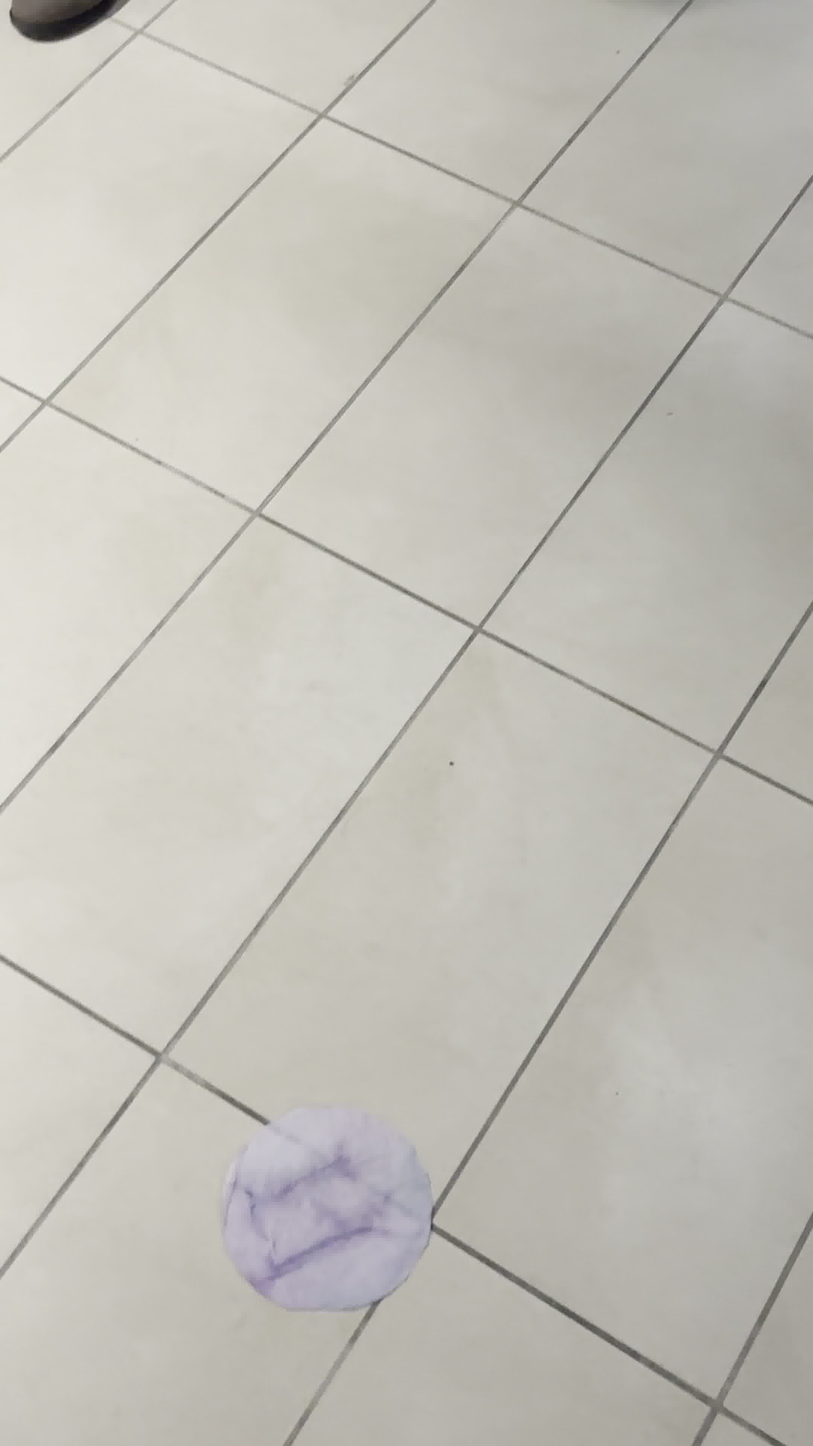Target: (223, 1113, 433, 1314)
